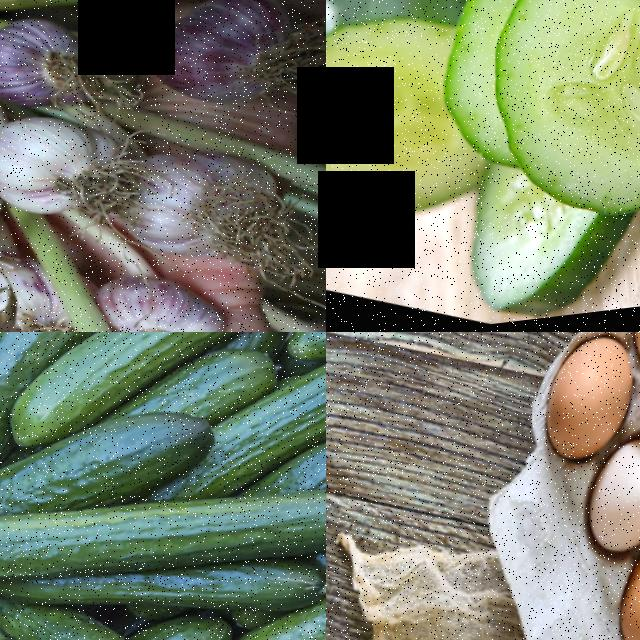cucumber: (456, 0, 640, 271), (326, 0, 498, 247), (136, 432, 326, 617), (28, 380, 214, 536), (0, 447, 148, 640), (0, 332, 178, 482), (236, 332, 326, 504), (218, 526, 326, 640), (0, 578, 158, 640)
egg_: (528, 332, 640, 483), (575, 438, 640, 574)
garlic: (106, 131, 263, 287), (0, 98, 114, 240), (0, 0, 110, 134)
